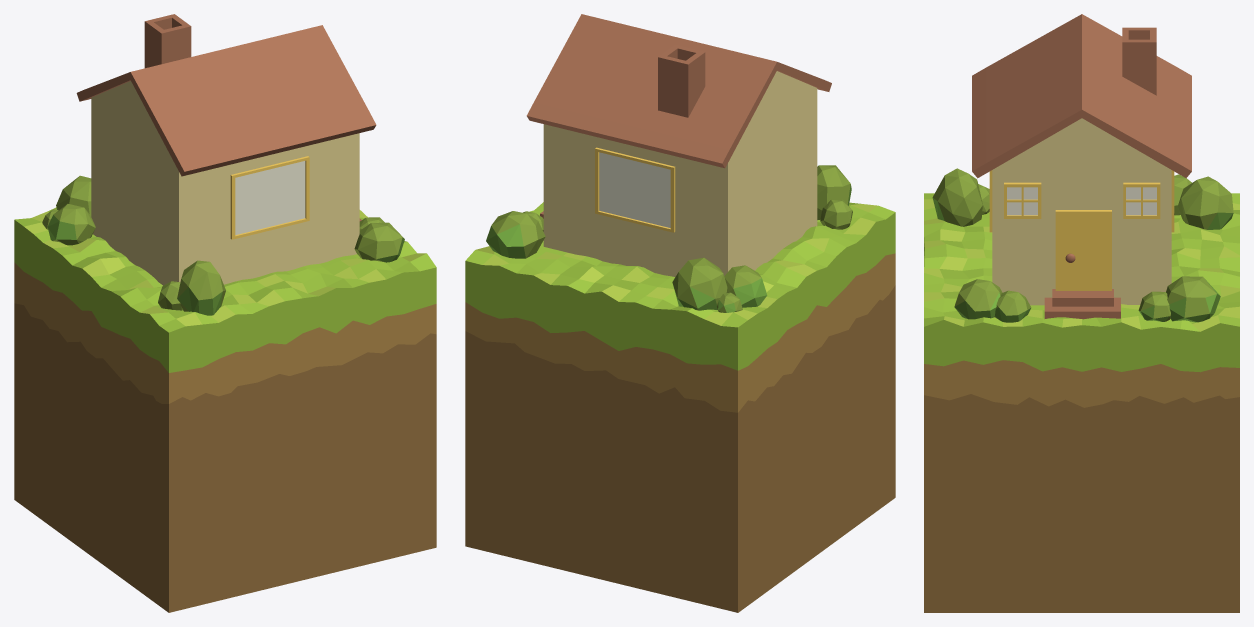
File: house-tile(1).fbx
The picture shows the model from 3 angles, left to right: view 1: azimuth 30°, elevation 25°; view 2: azimuth 150°, elevation 25°; view 3: azimuth 270°, elevation 25°; orthographic projection. The views are drawn at different scales.
Visible parts, largest first — view 1: Cube.007; view 2: Cube.007; view 3: Cube.007.
Boxes of the visible parts, <box> form: Cube.007: <box>14,14,436,612</box>; Cube.007: <box>465,14,895,612</box>; Cube.007: <box>924,14,1239,612</box>.
Bounding box in the file's own units: 200 × 347 × 200.
